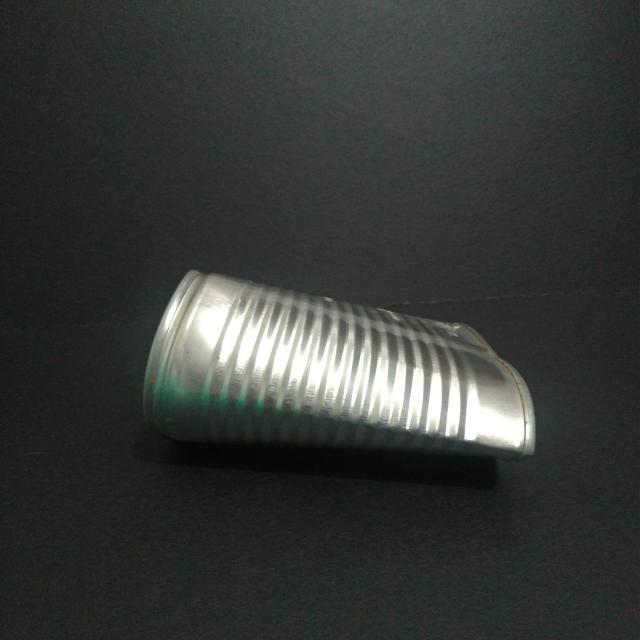metal: (136, 260, 542, 463)
